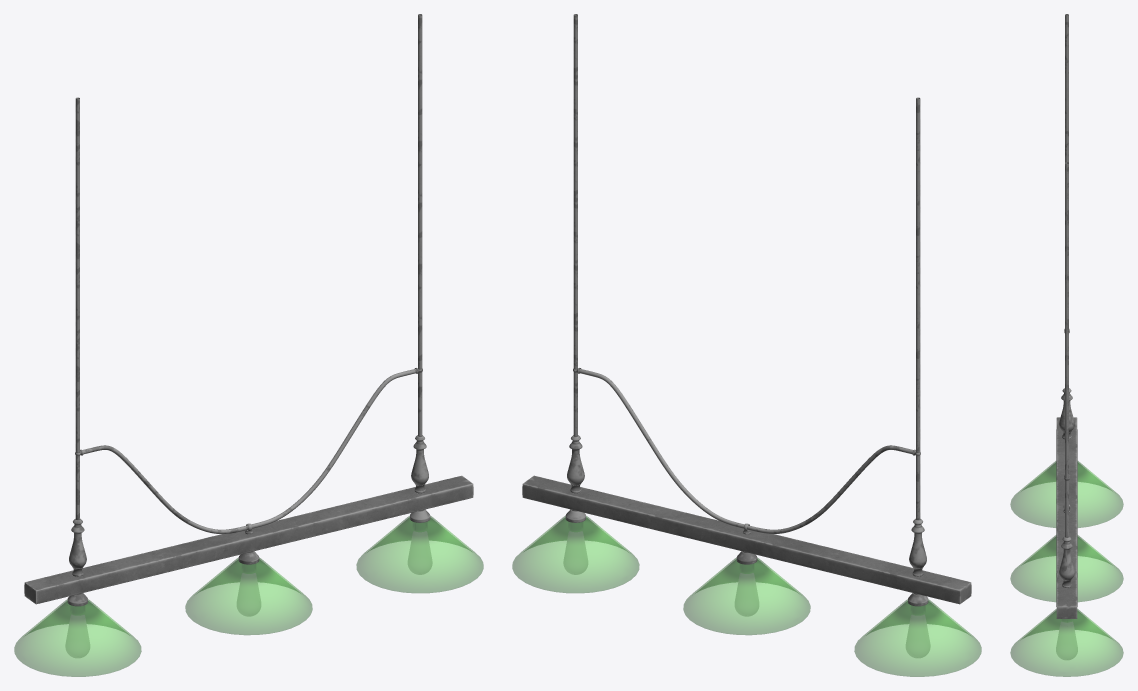
The model's file is pool_table_light_-_2048px2.glb.
3 views of the same model, side by side, from view 1: azimuth 30°, elevation 25°; view 2: azimuth 150°, elevation 25°; view 3: azimuth 270°, elevation 25° (orthographic). The views are drawn at different scales.
Visible parts, largest first — view 1: Pool Table Lamp @Mark Peters on Sketchfab_PoolTableLamp_MTL_, Pool Table Lamp1 - Lightbulb @Mark Peters on Sketchfab_PoolT, Pool Table Lamp2 - Lightbulb @Mark Peters on Sketchfab_PoolT, Pool Table Lamp3 - Lightbulb @Mark Peters on Sketchfab_PoolT; view 2: Pool Table Lamp @Mark Peters on Sketchfab_PoolTableLamp_MTL_, Pool Table Lamp1 - Lightbulb @Mark Peters on Sketchfab_PoolT, Pool Table Lamp2 - Lightbulb @Mark Peters on Sketchfab_PoolT, Pool Table Lamp3 - Lightbulb @Mark Peters on Sketchfab_PoolT; view 3: Pool Table Lamp @Mark Peters on Sketchfab_PoolTableLamp_MTL_, Pool Table Lamp3 - Lightbulb @Mark Peters on Sketchfab_PoolT.
Boxes of the visible parts, bbox=[...] form: Pool Table Lamp @Mark Peters on Sketchfab_PoolTableLamp_MTL_: bbox=[14, 14, 483, 676]; Pool Table Lamp1 - Lightbulb @Mark Peters on Sketchfab_PoolT: bbox=[66, 615, 89, 657]; Pool Table Lamp2 - Lightbulb @Mark Peters on Sketchfab_PoolT: bbox=[237, 573, 260, 615]; Pool Table Lamp3 - Lightbulb @Mark Peters on Sketchfab_PoolT: bbox=[408, 531, 431, 574]; Pool Table Lamp @Mark Peters on Sketchfab_PoolTableLamp_MTL_: bbox=[512, 14, 981, 676]; Pool Table Lamp1 - Lightbulb @Mark Peters on Sketchfab_PoolT: bbox=[906, 615, 929, 657]; Pool Table Lamp2 - Lightbulb @Mark Peters on Sketchfab_PoolT: bbox=[735, 573, 758, 615]; Pool Table Lamp3 - Lightbulb @Mark Peters on Sketchfab_PoolT: bbox=[564, 531, 587, 574]; Pool Table Lamp @Mark Peters on Sketchfab_PoolTableLamp_MTL_: bbox=[1010, 14, 1123, 676]; Pool Table Lamp3 - Lightbulb @Mark Peters on Sketchfab_PoolT: bbox=[1056, 622, 1077, 659].
Bounding box in the file's own units: 1.26 × 1.48 × 0.3067.
Materials: 2 (2 with a texture image).
